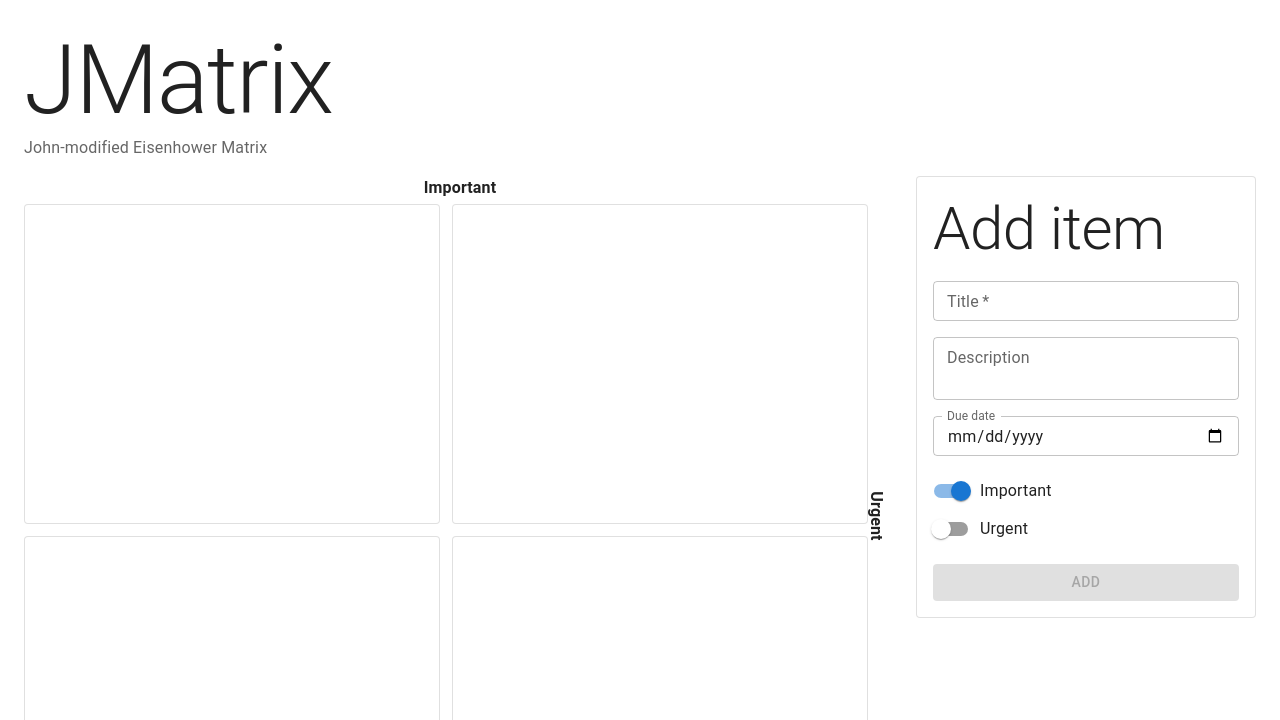
it: JMatrix MVP › adds a pending task to the selected matrix section
The image size is (1280, 720).
In the field labelled "Title": (1086, 301) [933, 281, 1239, 321], type "Ship MVP"
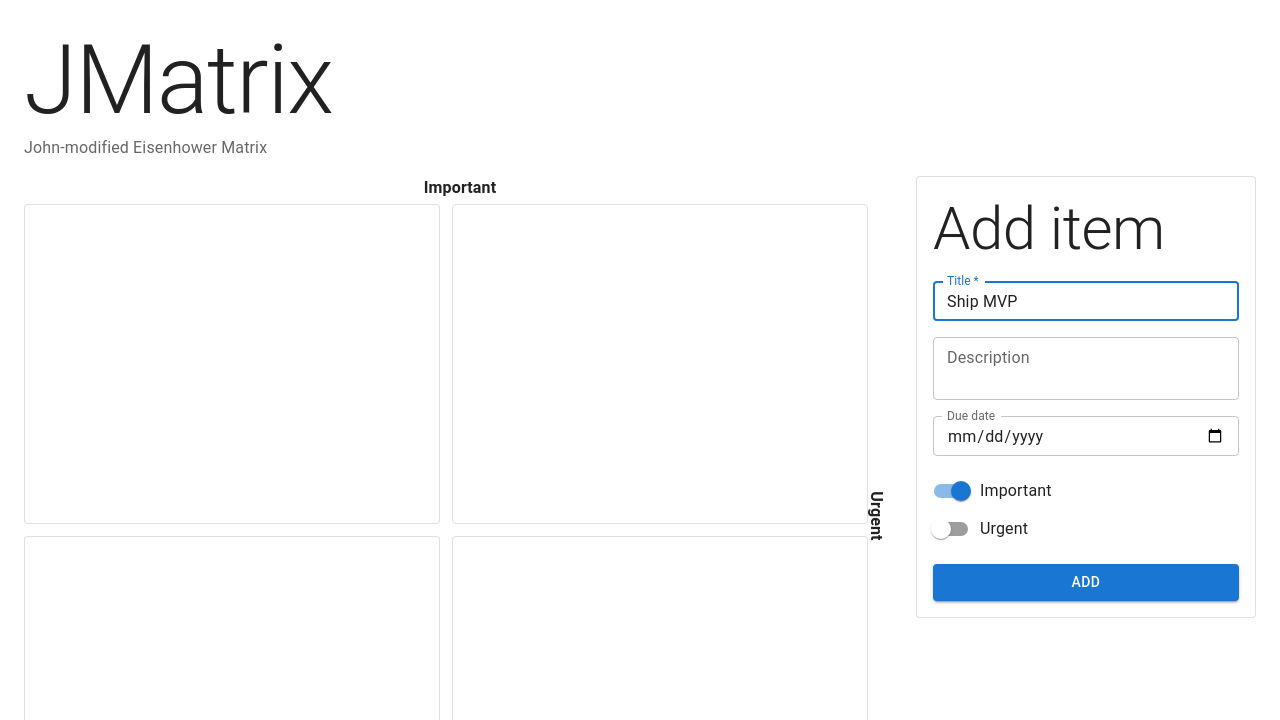
Click the switch labelled "Urgent": (980, 529) [931, 519, 1028, 539]
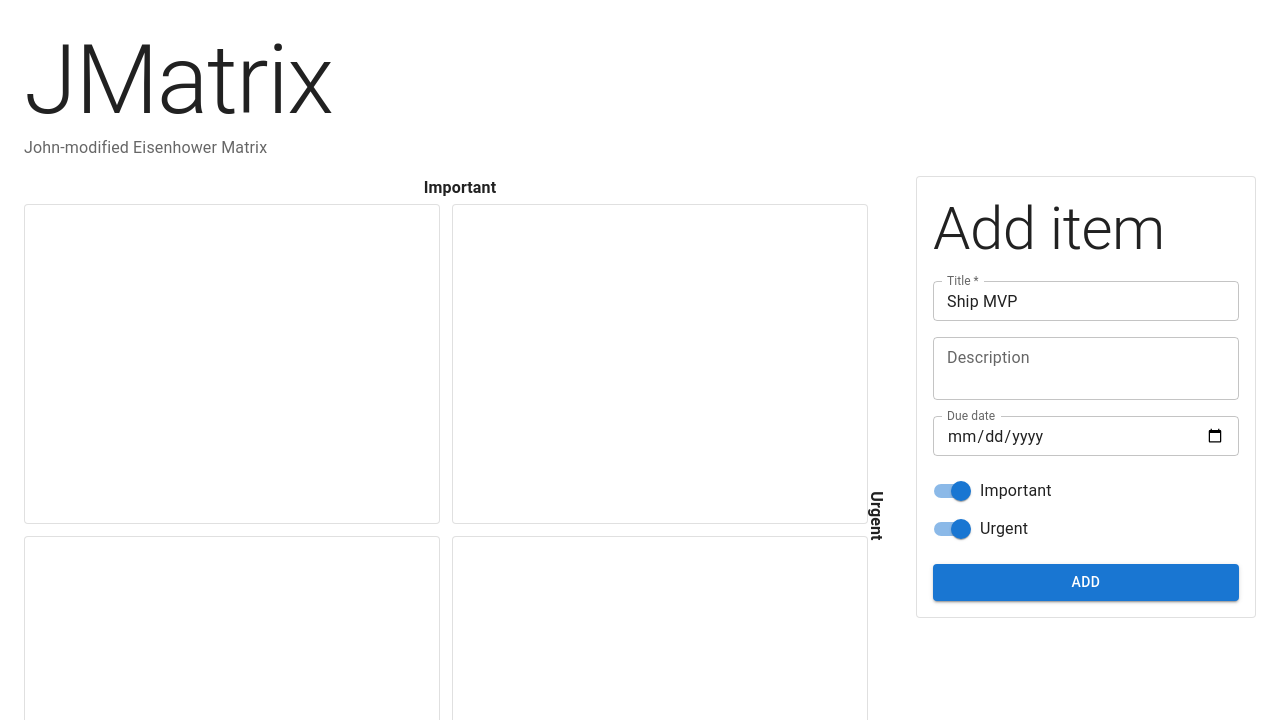
Click the button "Add": (1086, 582) [933, 564, 1239, 600]
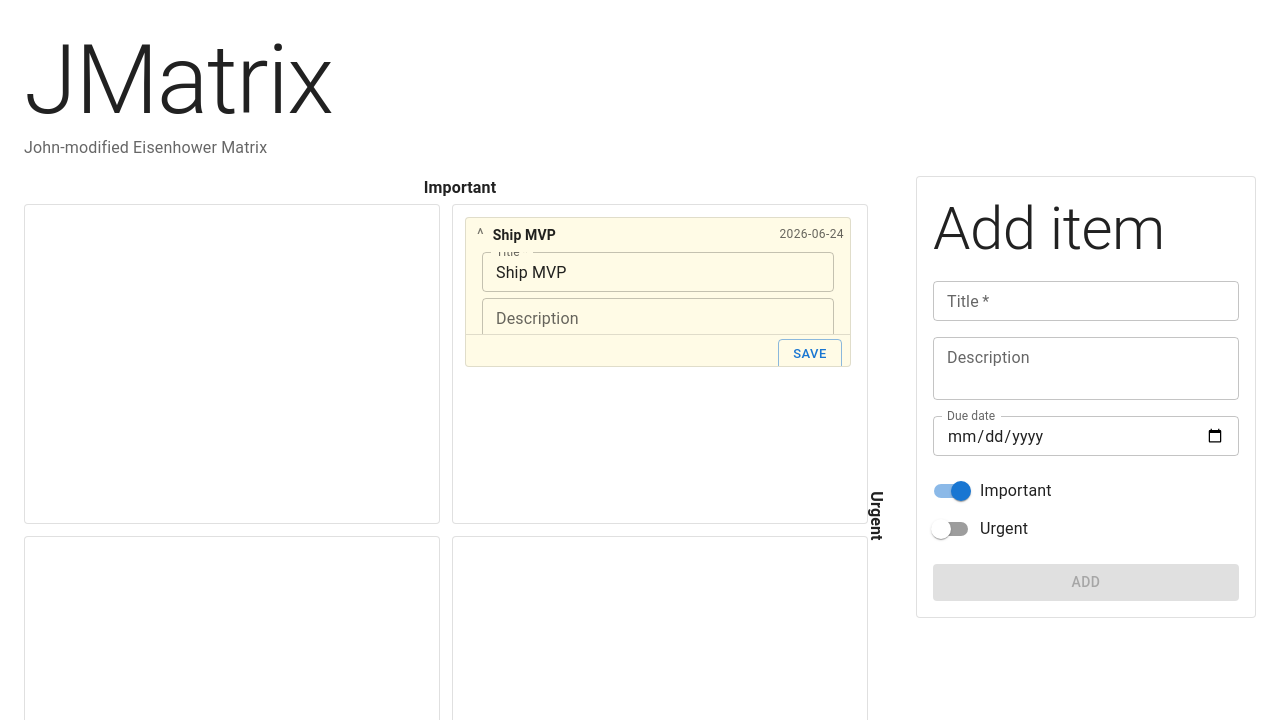
Expected: the text "Urgent" below "2026-06-24" is shown, [866, 491, 885, 541]
Now the 1st field showing "Ship MVP" is shown, box [482, 252, 834, 292]
